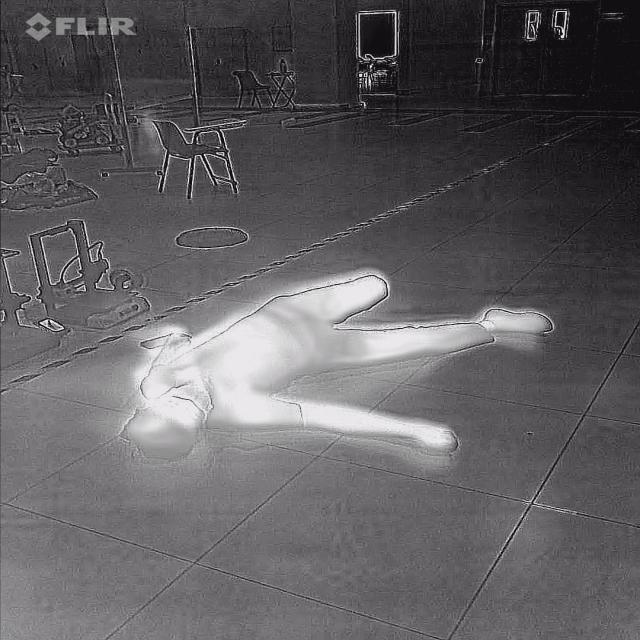Victim: (112, 268, 578, 456)
